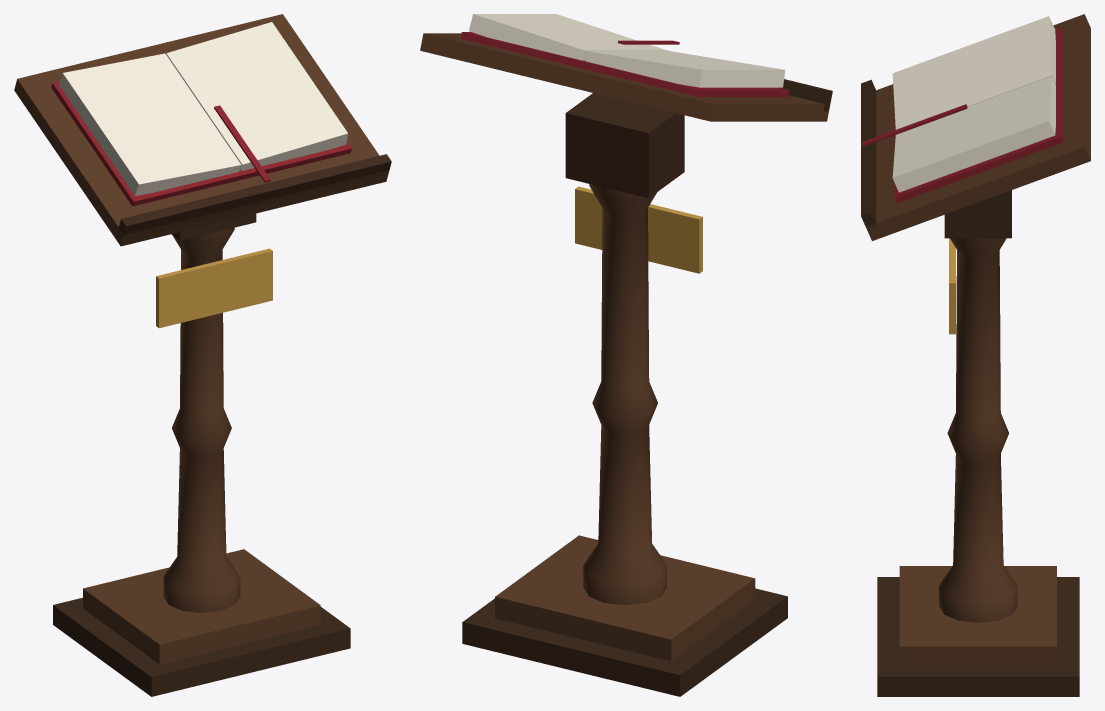
Rendered from prayer-cathedral-desk.glb.
3 views of the same model, side by side, from view 1: azimuth 30°, elevation 25°; view 2: azimuth 150°, elevation 25°; view 3: azimuth 270°, elevation 25° (orthographic). The views are drawn at different scales.
Parts seen in each view (by area): view 1: oak2, oak4, paper7, paper8, oak1, oakDark0, gilt11, oakDark5, ribbon6, oakDark3, ribbon9; view 2: oak2, oak1, oakDark0, oakDark3, oak4, paper7, paper8, gilt11, ribbon6, oakDark5; view 3: oak2, oak1, oak4, oakDark0, paper8, paper7, ribbon6, oakDark3, oakDark5, gilt11, ribbon9.
Boxes of the visible parts, x1,y1,x2,y2 form: oak2: [163, 227, 240, 612]; oak4: [14, 14, 388, 246]; paper7: [58, 53, 241, 195]; paper8: [166, 22, 348, 170]; oak1: [83, 549, 320, 664]; oakDark0: [53, 597, 350, 696]; gilt11: [156, 248, 272, 328]; oakDark5: [118, 154, 391, 239]; ribbon6: [51, 81, 351, 206]; oakDark3: [171, 213, 256, 240]; ribbon9: [214, 105, 270, 182]; oak2: [583, 184, 666, 605]; oak1: [495, 535, 755, 661]; oakDark0: [462, 588, 787, 696]; oakDark3: [565, 93, 684, 198]; oak4: [420, 33, 828, 121]; paper7: [585, 51, 785, 87]; paper8: [469, 14, 668, 60]; gilt11: [575, 186, 702, 273]; ribbon6: [460, 32, 789, 97]; oakDark5: [780, 79, 832, 111]; oak2: [939, 238, 1017, 622]; oak1: [899, 566, 1056, 666]; oak4: [866, 14, 1090, 240]; oakDark0: [877, 577, 1079, 696]; paper8: [892, 76, 1055, 192]; paper7: [892, 16, 1055, 129]; ribbon6: [894, 27, 1063, 202]; oakDark3: [944, 190, 1011, 238]; oakDark5: [861, 79, 876, 232]; gilt11: [949, 238, 955, 334]; ribbon9: [862, 104, 967, 146].
Size of the model in its own units: 0.56 by 1.14 by 0.4091.
